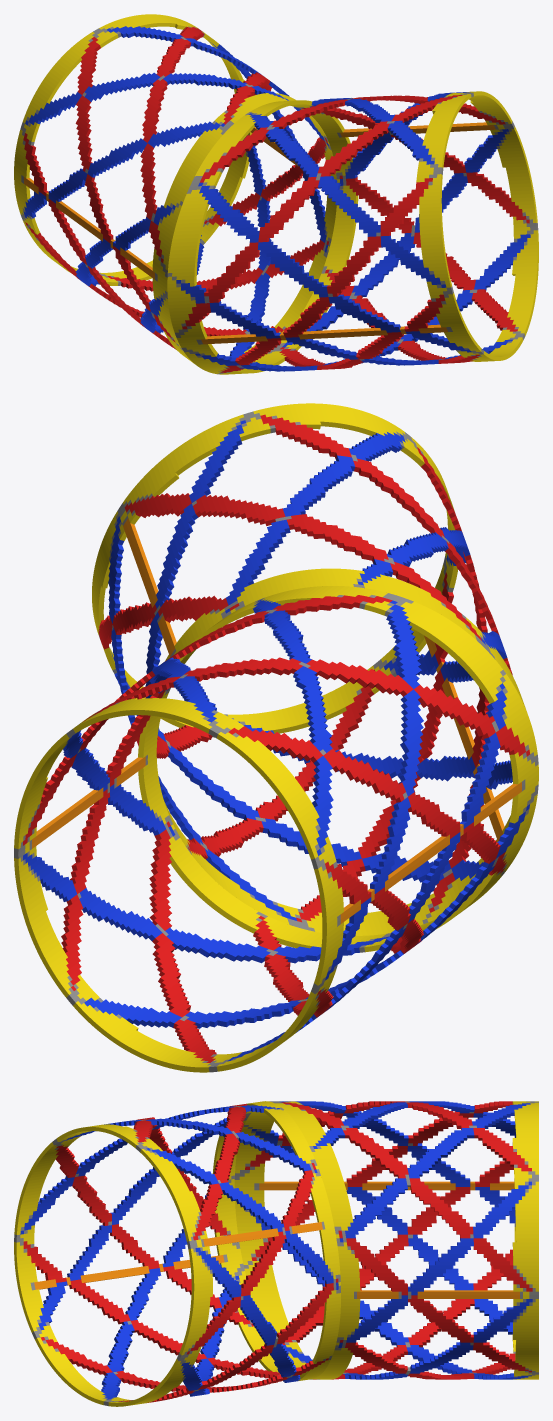
Rendered from initial_curves_module_voxel_colored.obj.
3 views of the same model, one above another, from view 1: azimuth 30°, elevation 25°; view 2: azimuth 150°, elevation 25°; view 3: azimuth 270°, elevation 25° (orthographic). The views are drawn at different scales.
Visible parts, largest first — view 1: mat_06_jointRing, mat_01_helixPlus, mat_02_helixMinus, mat_00_mixed, mat_04_bending; view 2: mat_06_jointRing, mat_02_helixMinus, mat_01_helixPlus, mat_04_bending, mat_00_mixed; view 3: mat_01_helixPlus, mat_06_jointRing, mat_02_helixMinus, mat_04_bending, mat_00_mixed.
Boxes of the visible parts, x1,y1,x2,y2 form: mat_06_jointRing: (14, 14, 538, 374); mat_01_helixPlus: (23, 26, 529, 372); mat_02_helixMinus: (23, 26, 530, 371); mat_00_mixed: (20, 26, 538, 374); mat_04_bending: (24, 122, 495, 344); mat_06_jointRing: (14, 403, 538, 1072); mat_02_helixMinus: (23, 420, 529, 1061); mat_01_helixPlus: (23, 414, 529, 1062); mat_04_bending: (32, 518, 521, 923); mat_00_mixed: (14, 411, 538, 1072); mat_01_helixPlus: (23, 1101, 532, 1403); mat_06_jointRing: (14, 1101, 538, 1406); mat_02_helixMinus: (20, 1101, 532, 1399); mat_04_bending: (34, 1181, 519, 1298); mat_00_mixed: (14, 1101, 538, 1405).
Size of the model in its own units: 0.3946 by 0.323 by 0.5211.
